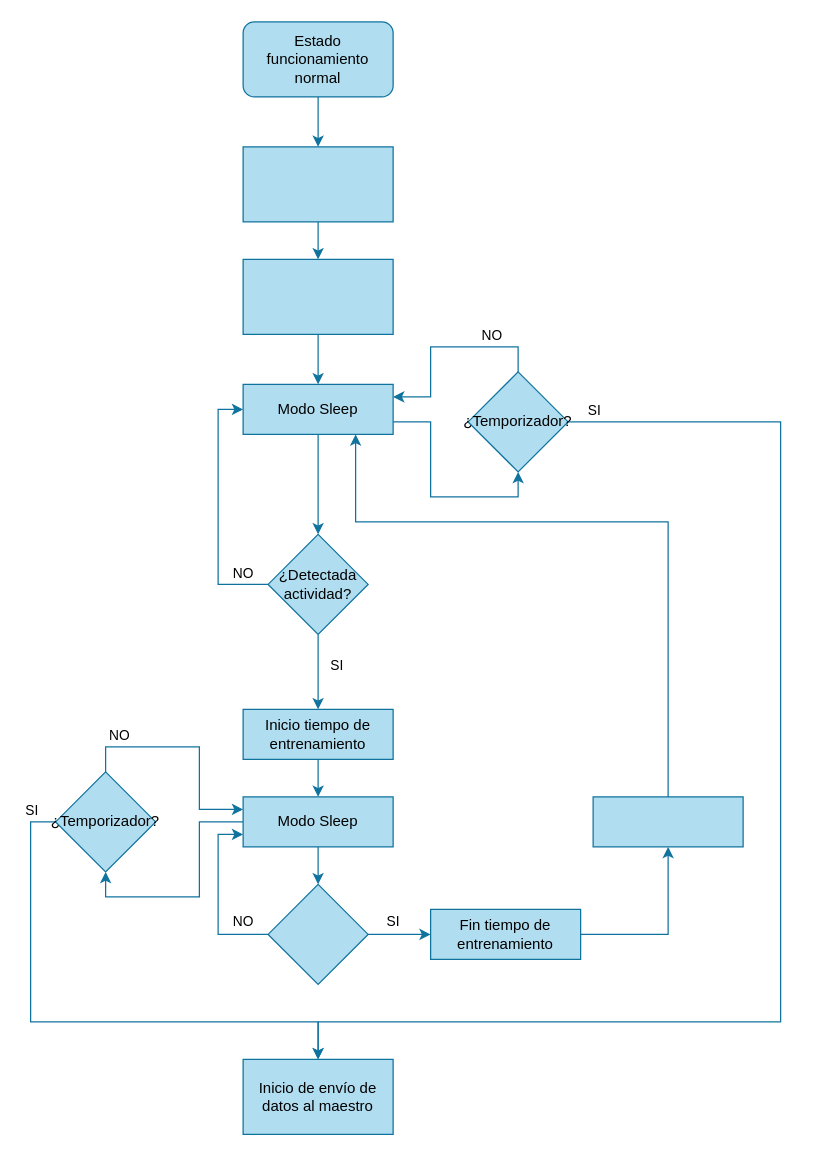
The diagram is 813 pixels wide and 1156 high, and some of its shapes have lost their labels. The shapes that lost their labels are listed below. From the top down, each one's centre as x and y in pixels, then its label:
At point (317, 184): "Inicio del temporizador (Tiempo establecido en la configuración)".
At point (317, 296): "Iniciado módulo de la detección de la actividad".
At point (667, 821): "Registro de dato".
At point (317, 933): "¿Detectada inactividad?".
